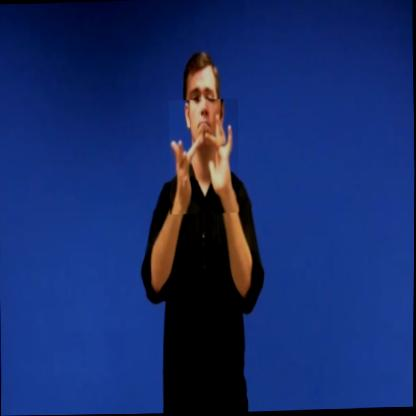Internet: (168, 99, 239, 215)
